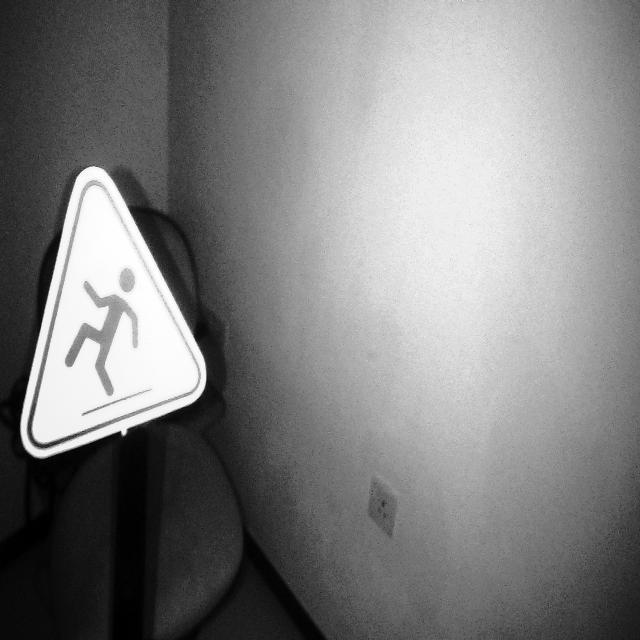Sign: (18, 164, 208, 462)
